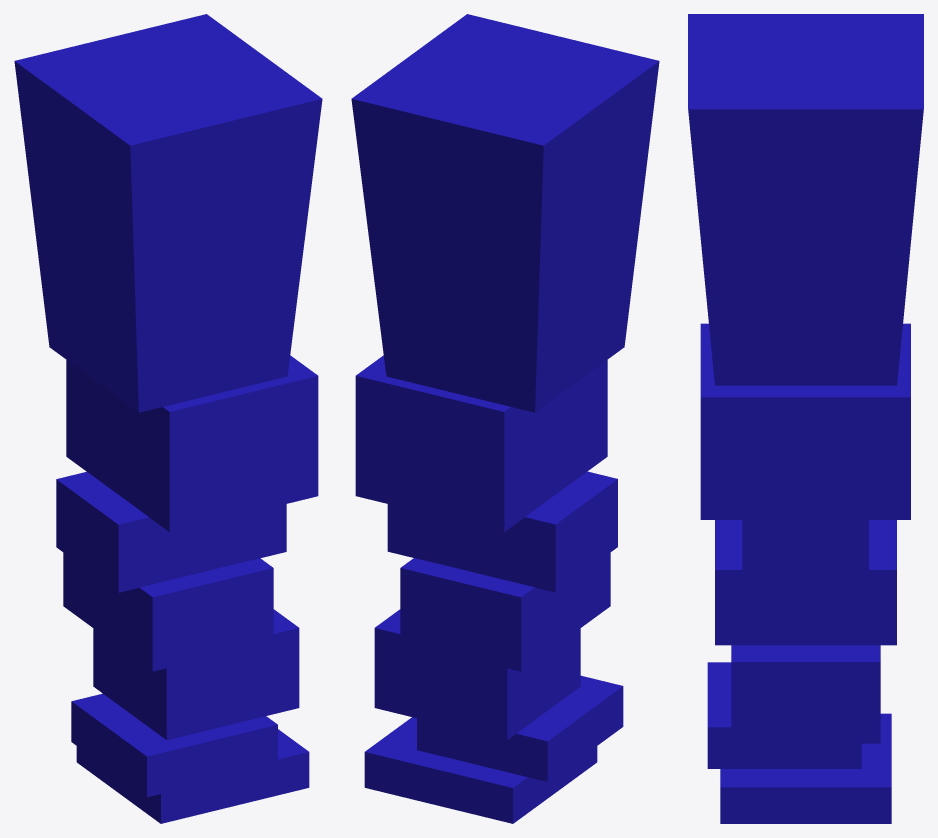
The model's file is tour17.FBX.
3 views of the same model, side by side, from view 1: azimuth 30°, elevation 25°; view 2: azimuth 150°, elevation 25°; view 3: azimuth 270°, elevation 25° (orthographic).
Parts seen in each view (by area): view 1: tour17bloc007, tour17bloc006, tour17bloc004, tour17bloc005, tour17bloc003, tour17bloc002, tour17bloc1; view 2: tour17bloc007, tour17bloc006, tour17bloc004, tour17bloc005, tour17bloc003, tour17bloc1, tour17bloc002; view 3: tour17bloc007, tour17bloc006, tour17bloc004, tour17bloc003, tour17bloc1, tour17bloc005, tour17bloc002.
Boxes of the visible parts, x1,y1,x2,y2 form: tour17bloc007: (14,14,322,412); tour17bloc006: (66,355,318,532); tour17bloc004: (63,552,273,671); tour17bloc005: (56,471,286,592); tour17bloc003: (93,609,299,740); tour17bloc002: (71,693,277,797); tour17bloc1: (76,729,309,823); tour17bloc007: (351,14,659,412); tour17bloc006: (355,355,607,532); tour17bloc004: (400,552,610,671); tour17bloc005: (387,471,617,592); tour17bloc003: (374,609,580,740); tour17bloc1: (364,717,597,823); tour17bloc002: (417,675,623,781); tour17bloc007: (688,14,923,385); tour17bloc006: (700,323,910,519); tour17bloc004: (715,520,896,645); tour17bloc003: (731,645,880,743); tour17bloc1: (720,713,891,823); tour17bloc005: (742,520,868,583); tour17bloc002: (707,662,861,768).
Bounding box in the file's own units: 414 × 1422 × 426.
